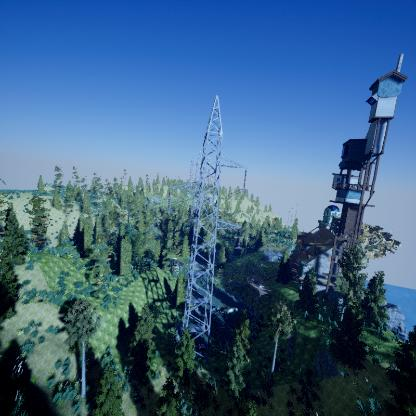tower: (170, 92, 250, 342)
